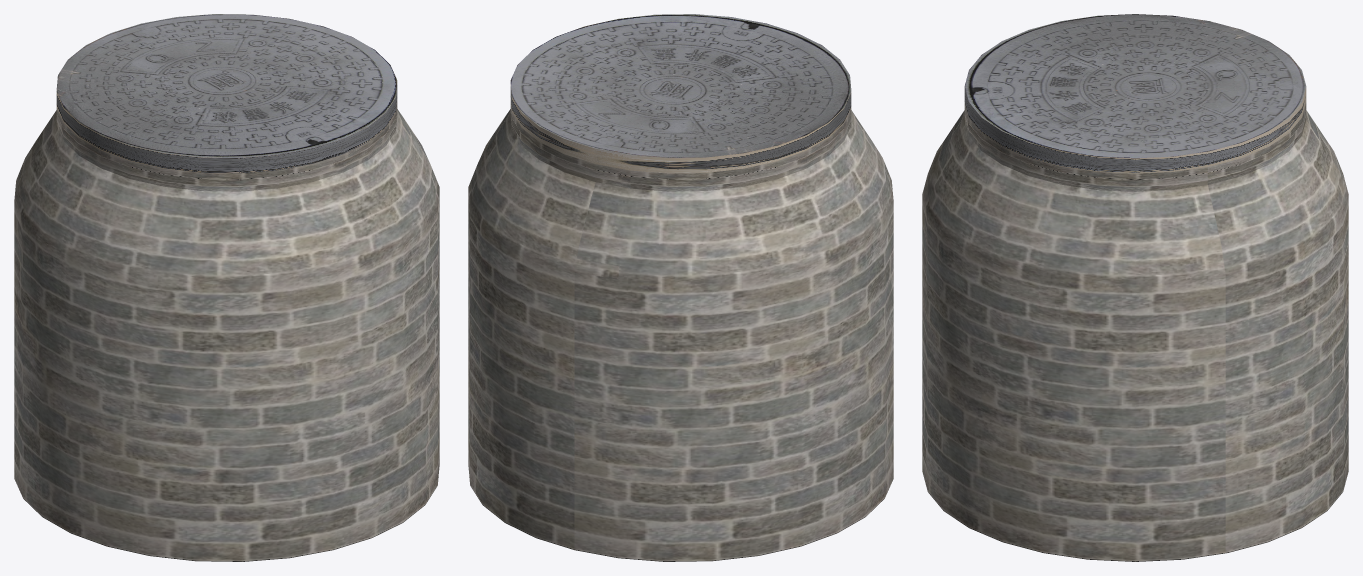
The picture shows the model from 3 angles, left to right: view 1: azimuth 30°, elevation 25°; view 2: azimuth 150°, elevation 25°; view 3: azimuth 270°, elevation 25°; orthographic projection.
Parts seen in each view (by area): view 1: Cylinder002.001, Cylinder007; view 2: Cylinder002.001, Cylinder007; view 3: Cylinder002.001, Cylinder007.
Boxes of the visible parts, box(x1,y1,x2,y2) form: Cylinder002.001: box(14, 100, 439, 561); Cylinder007: box(56, 14, 397, 173); Cylinder002.001: box(468, 100, 893, 561); Cylinder007: box(510, 14, 851, 173); Cylinder002.001: box(922, 102, 1348, 561); Cylinder007: box(964, 14, 1306, 173).
Size of the model in its own units: 2.49 by 2.49 by 2.49.
Materials: 2 (2 with a texture image).
